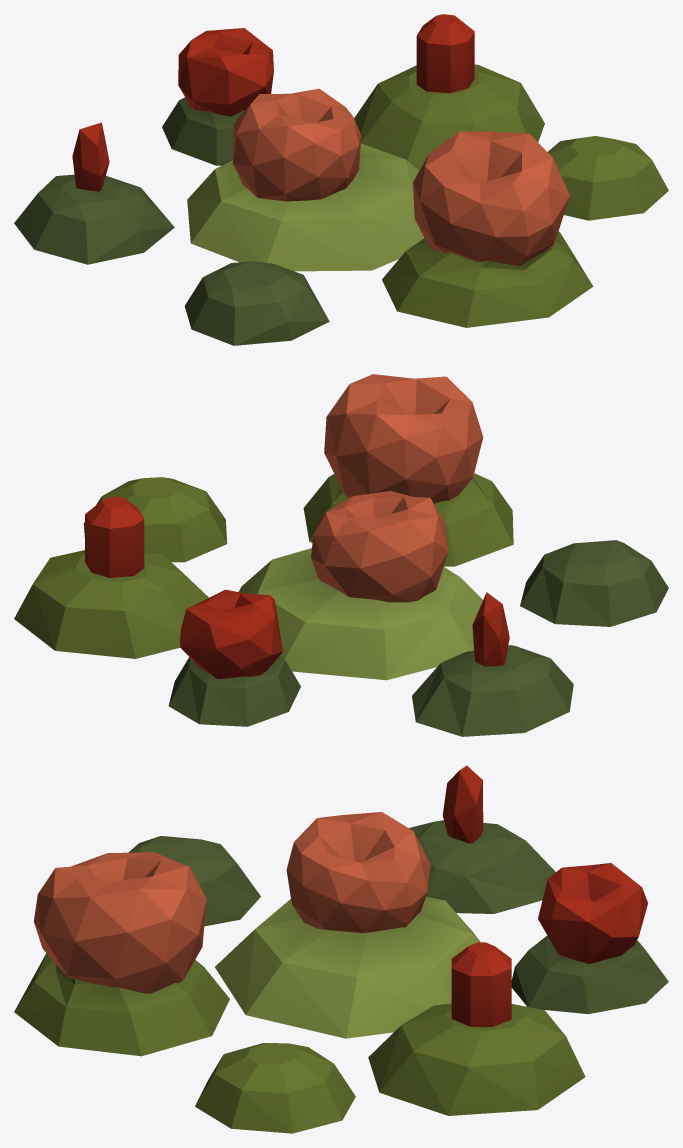
Rendered from swamp_lily_a.glb.
3 views of the same model, one above another, from view 1: azimuth 30°, elevation 25°; view 2: azimuth 150°, elevation 25°; view 3: azimuth 270°, elevation 25° (orthographic). The views are drawn at different scales.
Size of the model in its own units: 1.04 by 0.24 by 0.992.
